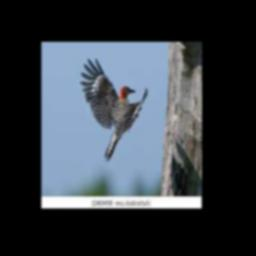Woodpecker: (80, 58, 147, 162)
